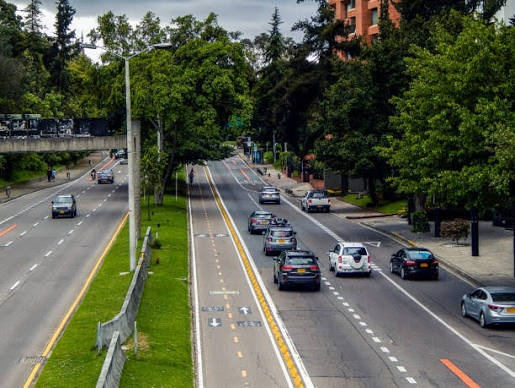car: (137, 161, 508, 334), (38, 140, 452, 288), (179, 164, 469, 287), (460, 285, 515, 331), (274, 249, 319, 290), (395, 249, 439, 280), (333, 244, 373, 274), (256, 216, 295, 244), (260, 223, 296, 251), (46, 194, 75, 219), (258, 190, 276, 201)
